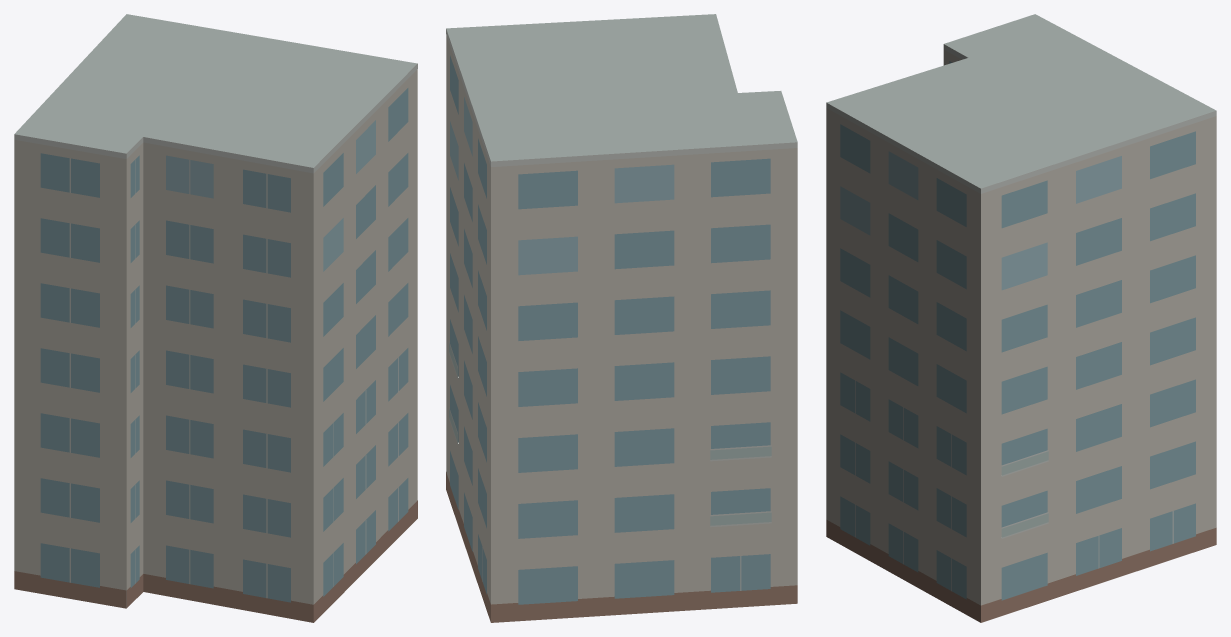
The model's file is survey-upis-32677264.glb.
3 views of the same model, side by side, from view 1: azimuth 30°, elevation 25°; view 2: azimuth 150°, elevation 25°; view 3: azimuth 270°, elevation 25° (orthographic). The views are drawn at different scales.
Parts seen in each view (by area): view 1: survey-upis-32677264.tmp; view 2: survey-upis-32677264.tmp; view 3: survey-upis-32677264.tmp.
Boxes of the visible parts, <box> form: survey-upis-32677264.tmp: <box>14,14,417,622</box>; survey-upis-32677264.tmp: <box>446,14,797,622</box>; survey-upis-32677264.tmp: <box>826,14,1216,622</box>.
Bounding box in the file's own units: 17.27 × 20 × 16.31.
